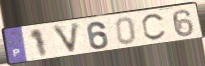0: (114, 16, 138, 47)
1: (28, 27, 50, 59)
6: (171, 9, 196, 38), (86, 20, 110, 50)
C: (140, 12, 168, 42)
V: (51, 21, 82, 57)
